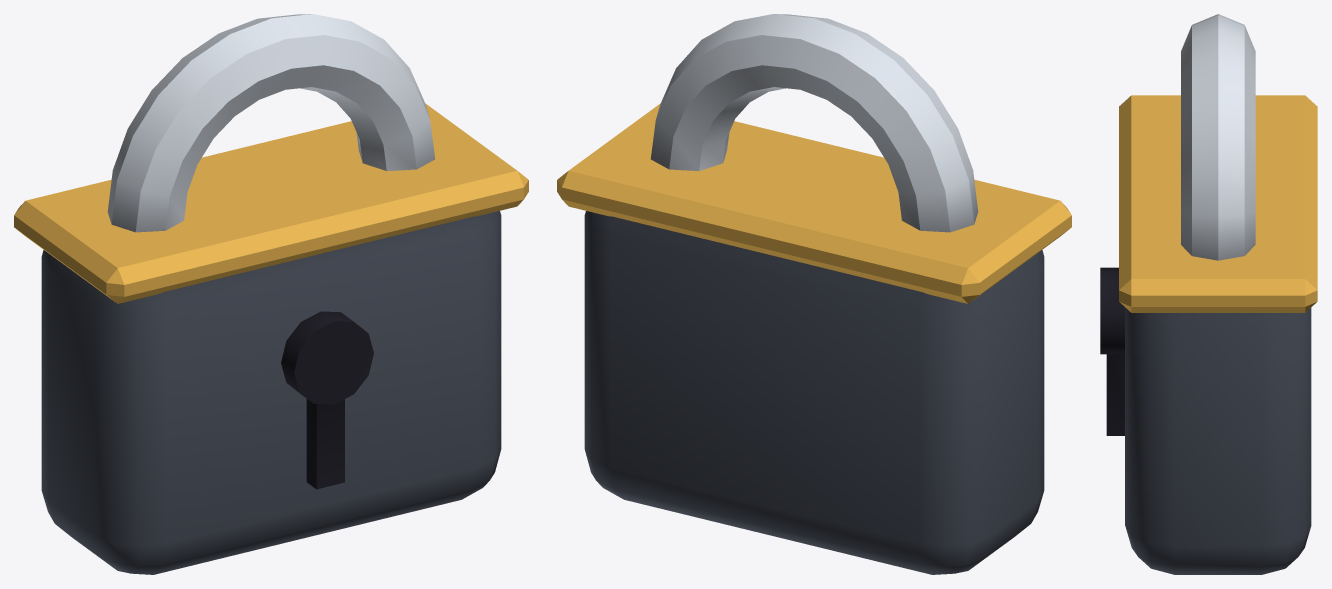
The model's file is icon_lock.glb.
3 views of the same model, side by side, from view 1: azimuth 30°, elevation 25°; view 2: azimuth 150°, elevation 25°; view 3: azimuth 270°, elevation 25° (orthographic). The views are drawn at different scales.
Parts seen in each view (by area): view 1: Lock; view 2: Lock; view 3: Lock.
Boxes of the visible parts, bbox=[...] form: Lock: bbox=[14, 14, 528, 574]; Lock: bbox=[557, 14, 1071, 574]; Lock: bbox=[1100, 14, 1317, 574].
Size of the model in its own units: 0.74 by 0.835 by 0.35.
1 material, 1 textured.
